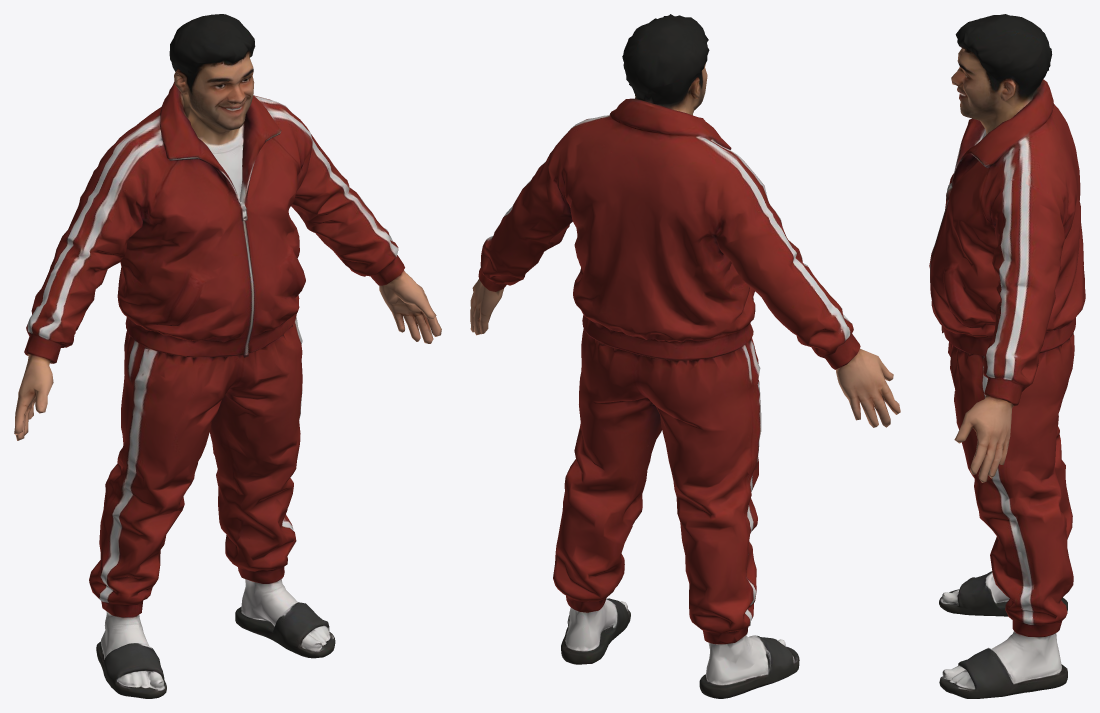
Rendered from shimi_z.glb.
3 renders of one model, left to right at view 1: azimuth 30°, elevation 25°; view 2: azimuth 150°, elevation 25°; view 3: azimuth 270°, elevation 25°, orthographic.
Visible parts, largest first — view 1: tripo_node_b5007e2c-0525-40b8-bd4b-8a97643e7890; view 2: tripo_node_b5007e2c-0525-40b8-bd4b-8a97643e7890; view 3: tripo_node_b5007e2c-0525-40b8-bd4b-8a97643e7890.
Boxes of the visible parts, x1,y1,x2,y2 form: tripo_node_b5007e2c-0525-40b8-bd4b-8a97643e7890: (14,14,441,698); tripo_node_b5007e2c-0525-40b8-bd4b-8a97643e7890: (470,14,900,698); tripo_node_b5007e2c-0525-40b8-bd4b-8a97643e7890: (929,14,1085,698).
Size of the model in its own units: 0.7049 by 1 by 0.2238.
Materials: 1 (1 with a texture image).
